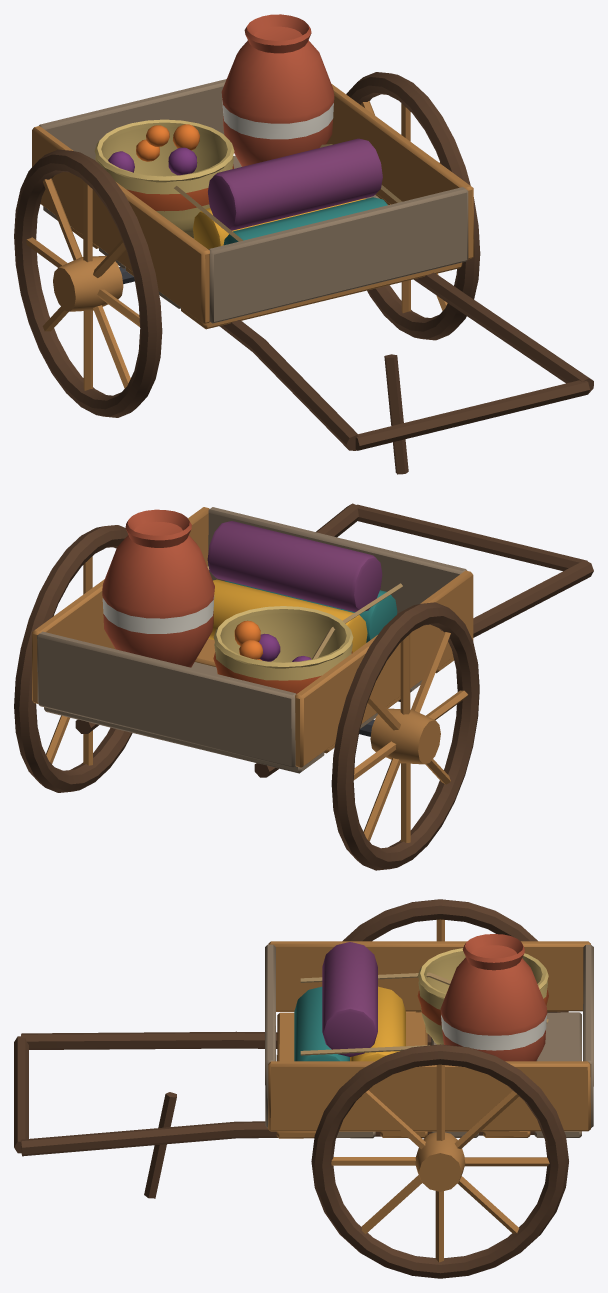
Rendered from deco_handcart.fbx.
3 views of the same model, one above another, from view 1: azimuth 30°, elevation 25°; view 2: azimuth 150°, elevation 25°; view 3: azimuth 270°, elevation 25° (orthographic). The views are drawn at different scales.
Visible parts, largest first — view 1: Handcart_Bed, Handcart_Load, Handcart_WheelL, Handcart_Shafts, Handcart_WheelR; view 2: Handcart_Bed, Handcart_Load, Handcart_WheelL, Handcart_WheelR, Handcart_Shafts; view 3: Handcart_Bed, Handcart_Load, Handcart_WheelR, Handcart_Shafts, Handcart_WheelL.
Part boxes in pixels (box(x1,y1,x2,y2)): Handcart_Bed: box(32, 79, 474, 329); Handcart_Load: box(94, 14, 401, 249); Handcart_WheelL: box(14, 149, 162, 417); Handcart_Shafts: box(219, 272, 593, 474); Handcart_WheelR: box(346, 72, 480, 340); Handcart_Bed: box(32, 507, 473, 773); Handcart_Load: box(102, 509, 402, 693); Handcart_WheelL: box(331, 602, 479, 870); Handcart_WheelR: box(14, 525, 132, 792); Handcart_Shafts: box(75, 503, 593, 777); Handcart_Bed: box(265, 941, 593, 1138); Handcart_Load: box(294, 934, 548, 1061); Handcart_WheelR: box(311, 1044, 568, 1278); Handcart_Shafts: box(14, 1031, 534, 1198); Handcart_WheelL: box(342, 899, 568, 1012).
Bounding box in the file's own units: 184 × 147 × 270.
